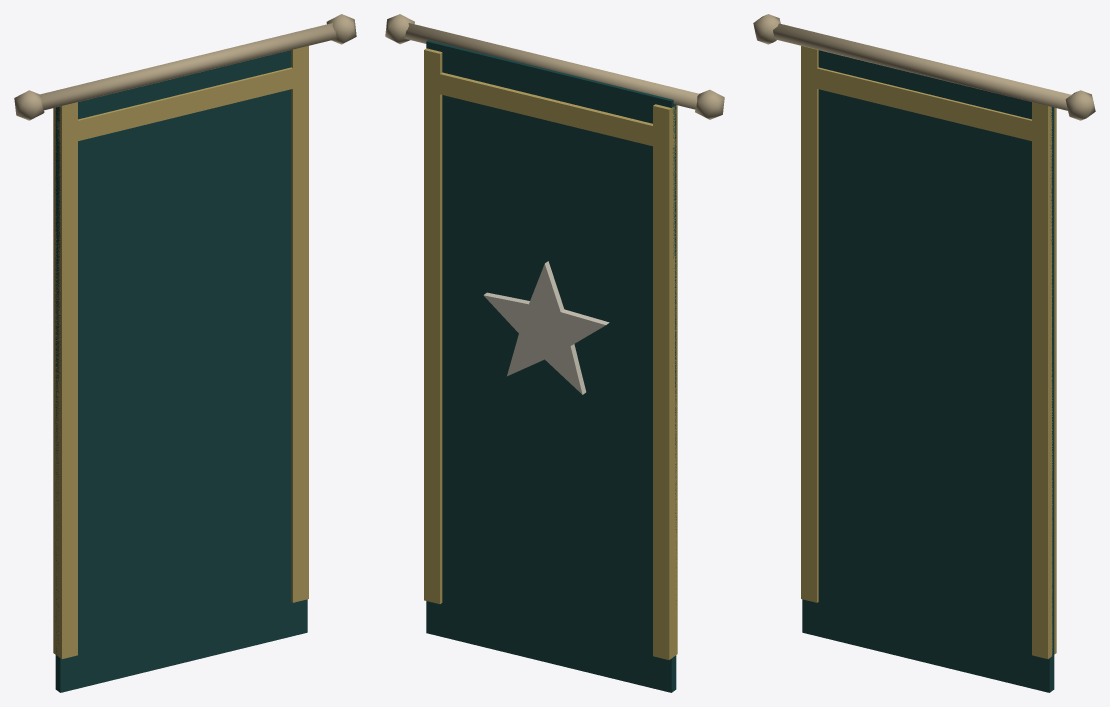
The model's file is nebula_floater_banner_v0.glb.
3 renders of one model, left to right at view 1: azimuth 30°, elevation 25°; view 2: azimuth 150°, elevation 25°; view 3: azimuth 330°, elevation 25°, orthographic.
Parts seen in each view (by area): view 1: nebula_floater_banner_v0; view 2: nebula_floater_banner_v0; view 3: nebula_floater_banner_v0.
Part boxes in pixels (box(x1,y1,x2,y2)): nebula_floater_banner_v0: box(14, 14, 356, 692); nebula_floater_banner_v0: box(385, 14, 724, 692); nebula_floater_banner_v0: box(753, 14, 1095, 692).
Size of the model in its own units: 1.04 by 1.8 by 0.0933.
